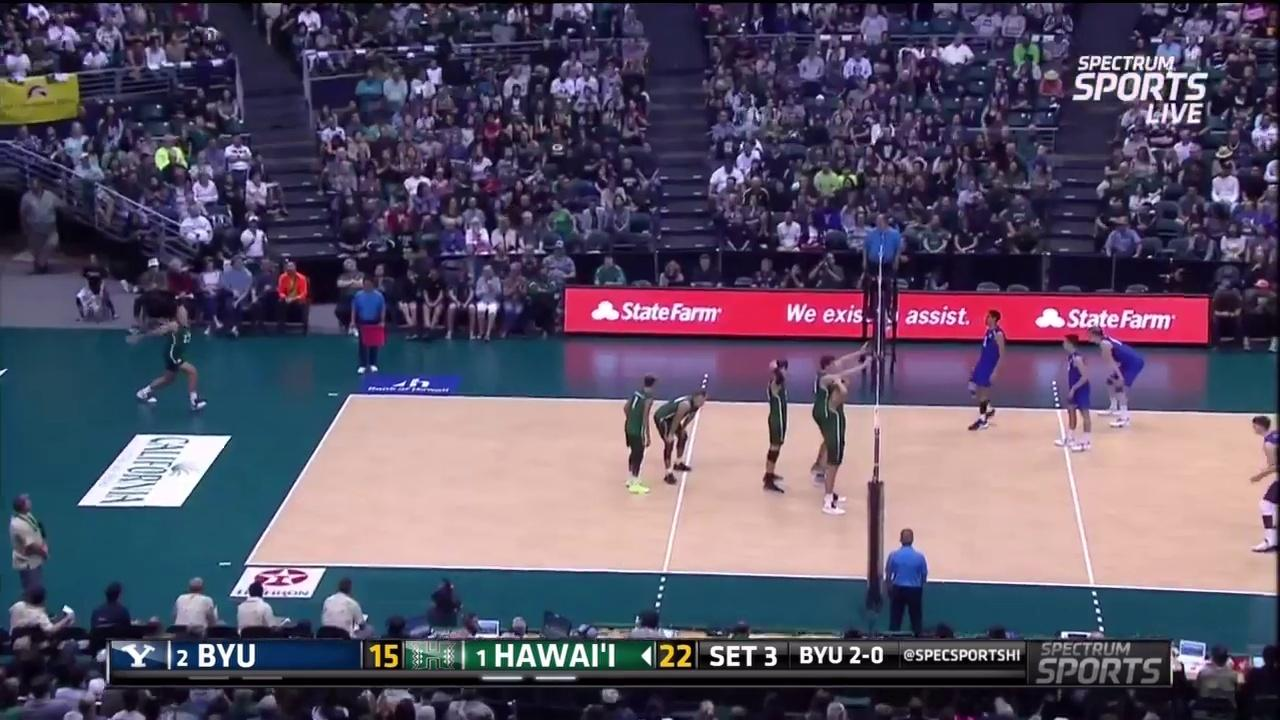player: (129, 305, 209, 414), (654, 374, 706, 489), (1091, 325, 1146, 431), (621, 374, 665, 494), (819, 370, 853, 521), (965, 314, 1003, 432), (1058, 331, 1095, 451), (1249, 417, 1280, 554), (811, 348, 842, 484), (765, 360, 794, 490)
refree: (860, 213, 906, 325), (881, 531, 928, 635), (352, 274, 389, 372)
